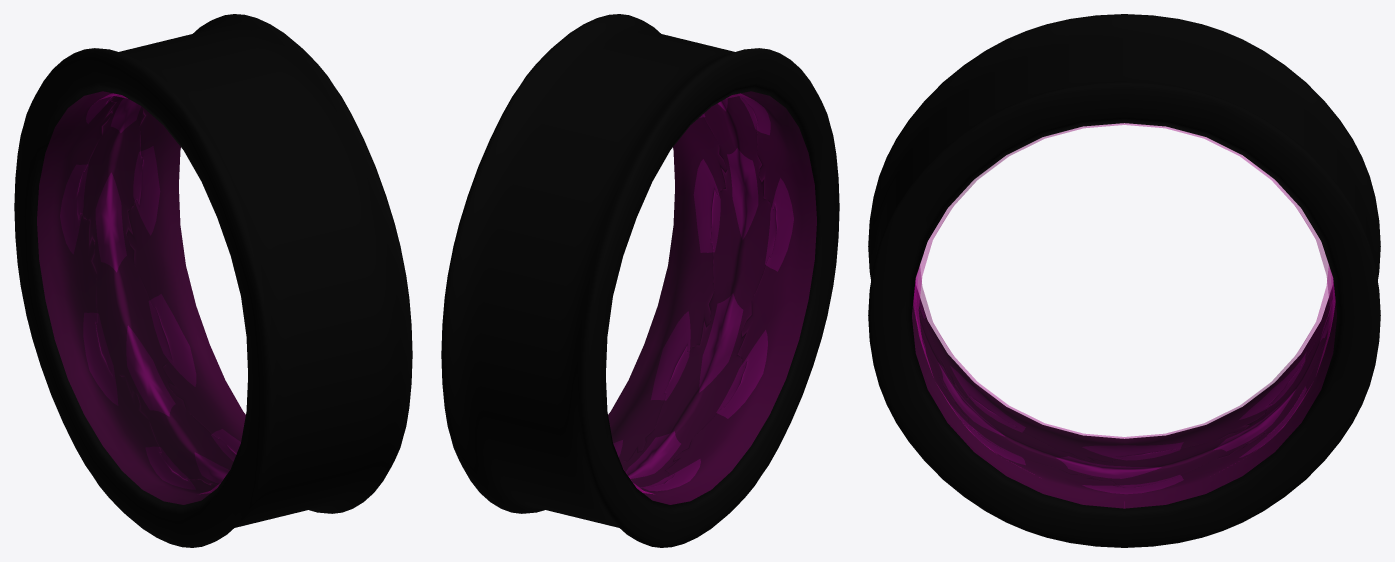
File: Screw_Key.fbx
3 renders of one model, left to right at view 1: azimuth 30°, elevation 25°; view 2: azimuth 150°, elevation 25°; view 3: azimuth 270°, elevation 25°, orthographic.
Visible parts, largest first — view 1: pPipe2, pPipe3; view 2: pPipe2, pPipe3; view 3: pPipe2, pPipe3.
Boxes of the visible parts, <box> form: pPipe2: <box>14,14,412,547</box>; pPipe3: <box>37,91,245,504</box>; pPipe2: <box>441,14,839,547</box>; pPipe3: <box>608,91,816,504</box>; pPipe2: <box>868,14,1380,547</box>; pPipe3: <box>912,123,1336,508</box>.
Bounding box in the file's own units: 7.29 × 21.2 × 21.2.
